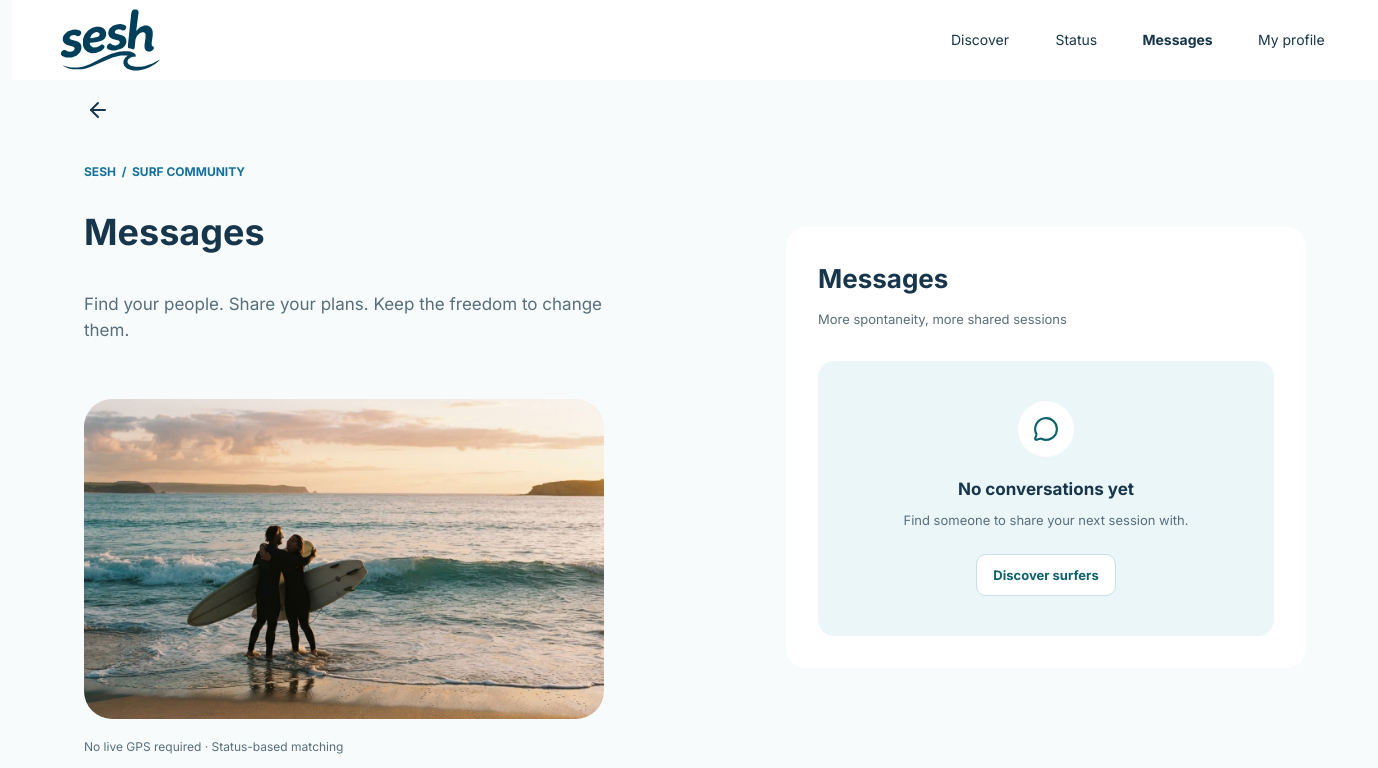
Test case: API integration and states › empty inbox: friendly message and a link to Discover
The image size is (1378, 768).
Expected: the heading "Messages" is shown, x1=818 y1=263 x2=948 y2=294
Expected: the heading "No conversations yet" is shown, x1=958 y1=477 x2=1134 y2=503
Click the link "Discover surfers" at (1046, 575), box x1=976 y1=554 x2=1116 y2=596
(page scrolled)
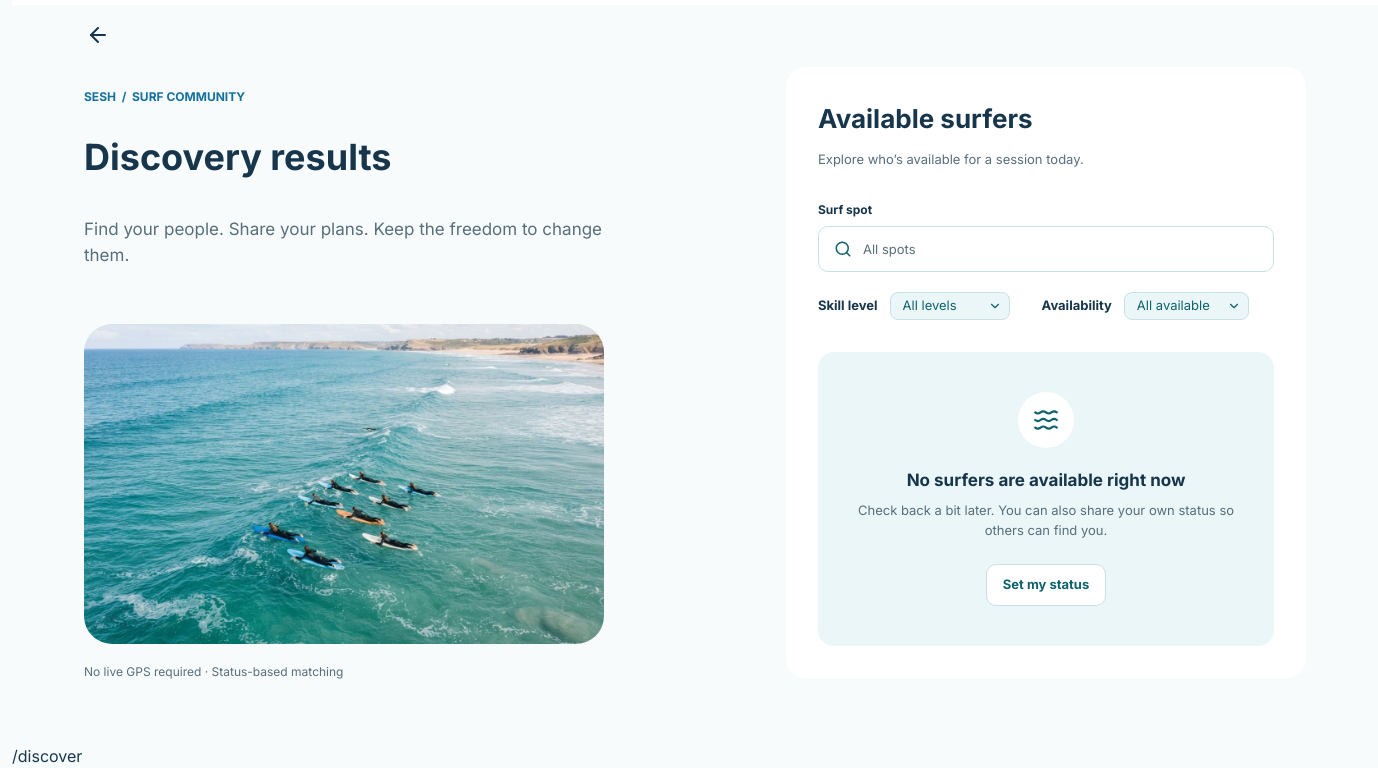
Expected: the text with test id "location" reads "/discover", x1=12 y1=746 x2=82 y2=766
